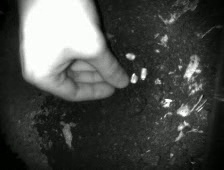corn: (128, 71, 140, 85), (138, 66, 149, 81), (123, 51, 138, 61)
